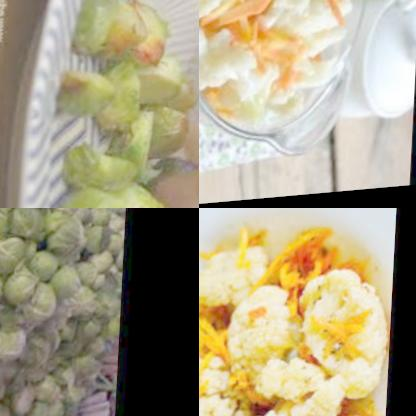brus capusta: (0, 208, 135, 416), (73, 0, 199, 162), (63, 170, 174, 208)
carrot: (250, 30, 304, 69), (236, 0, 291, 24)
cayliflower: (290, 268, 392, 409), (218, 287, 309, 415), (262, 0, 366, 96), (251, 353, 361, 416), (199, 243, 281, 316), (199, 34, 261, 110), (199, 340, 259, 416), (199, 0, 252, 37)
